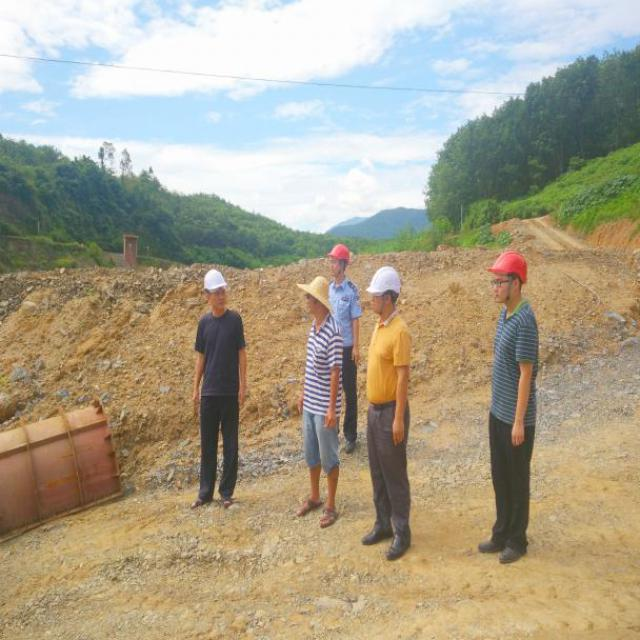helmet: (479, 247, 536, 306), (197, 254, 236, 319), (364, 250, 403, 314), (322, 238, 355, 278)
